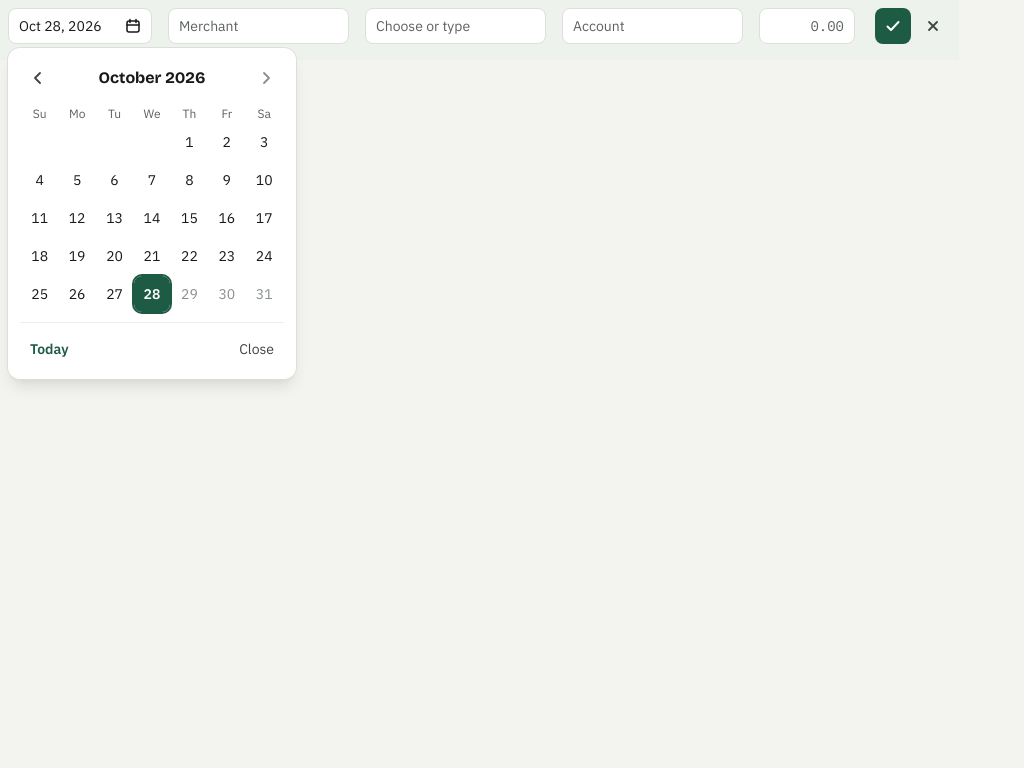
EntryRow › Tab on amount with an empty field shows the first problem and focuses it
Click the field named "Amount in CAD": (807, 26) [759, 8, 855, 44]
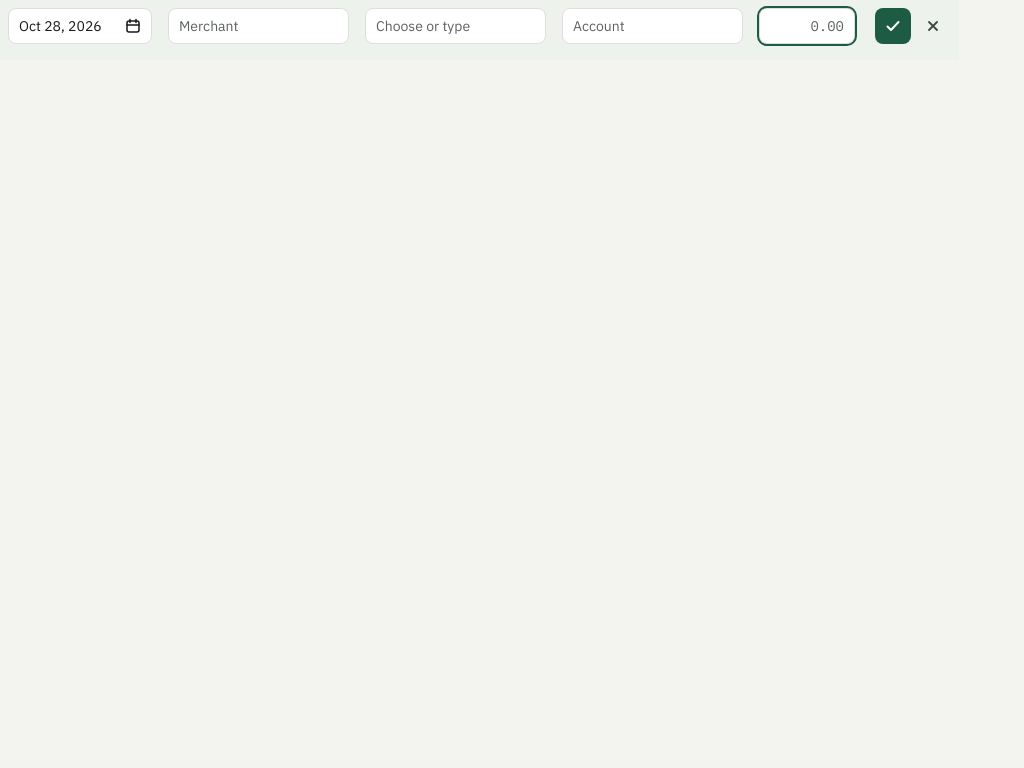
Type keys "5"
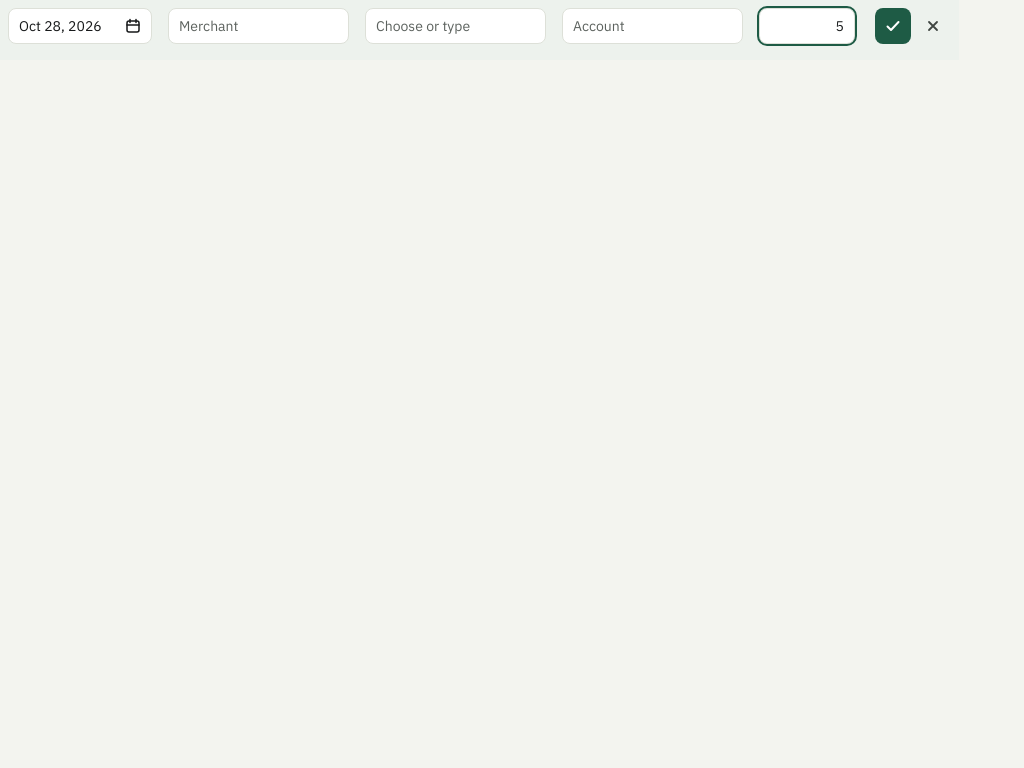
Press Tab
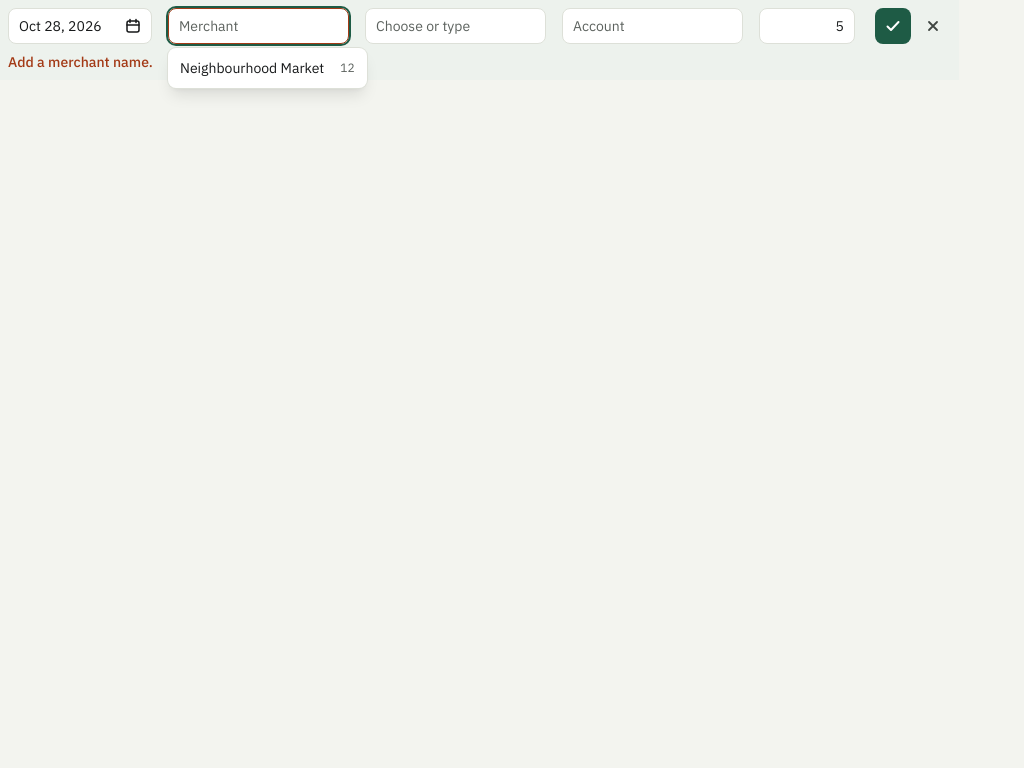
Now the text "Add a merchant name." is shown, box [8, 53, 153, 71]
